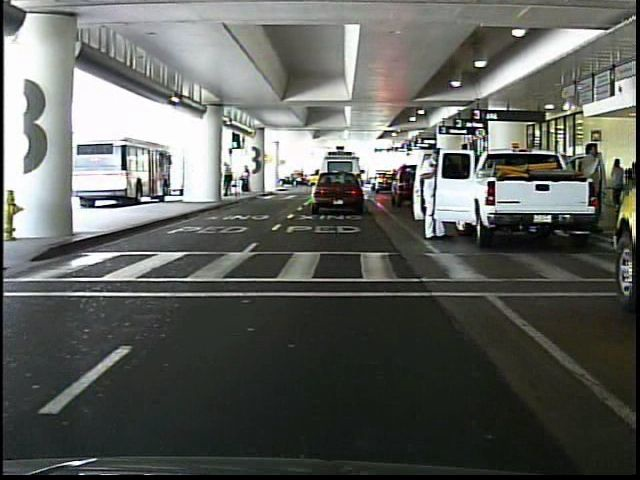person: (417, 141, 454, 245), (574, 139, 607, 227), (606, 154, 628, 216), (222, 159, 235, 198), (240, 164, 255, 195)
